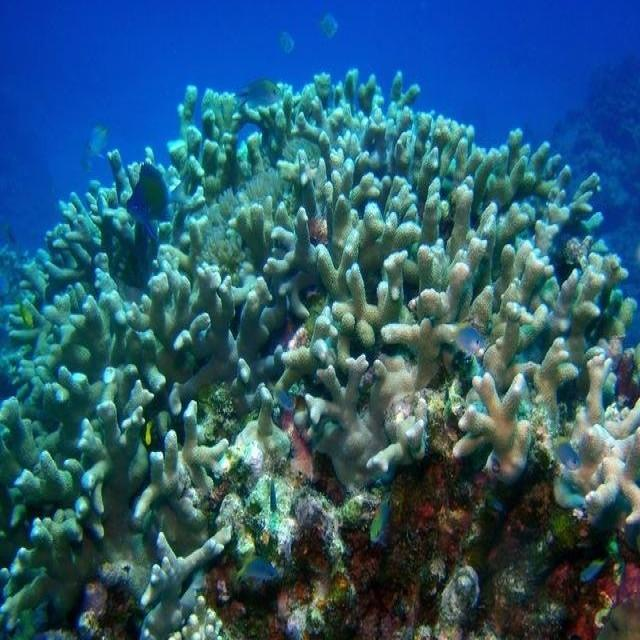fish: (237, 81, 282, 102)
reefs: (0, 66, 639, 639)
